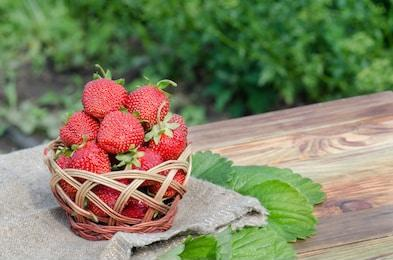Fresa: (95, 107, 145, 156), (80, 73, 129, 120), (127, 80, 172, 129), (147, 111, 189, 160), (53, 106, 102, 147), (64, 140, 116, 177), (122, 145, 163, 184)
